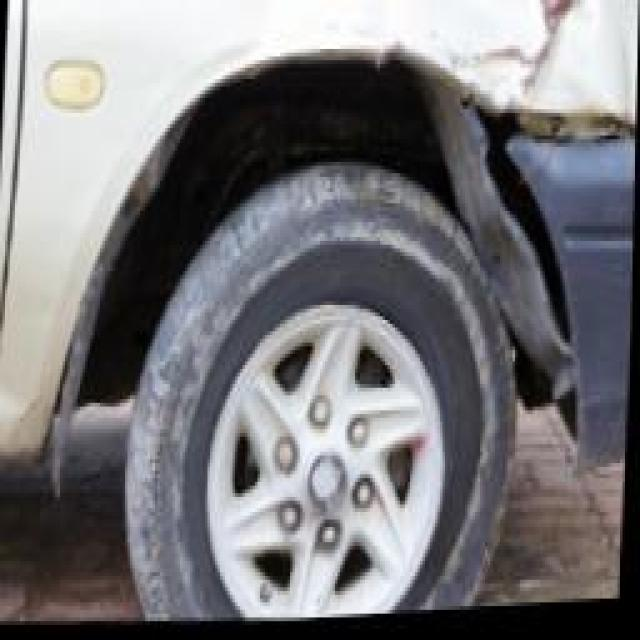Fender: (115, 0, 640, 173)
